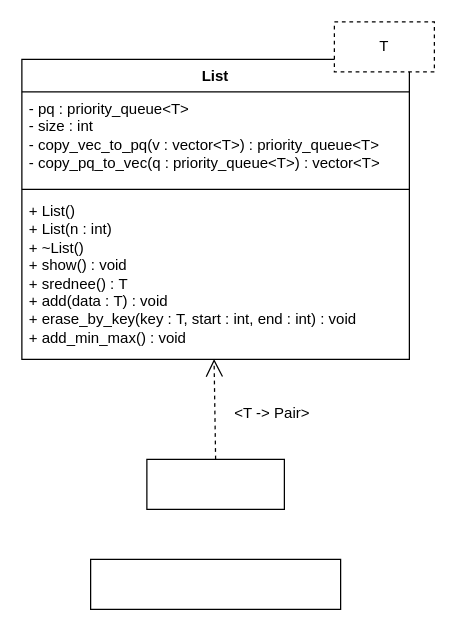
Image size: 456x631. Some labels were removed from this diagram. Each missing label, with the centre of its shape:
"lst" belongs at (215,483).
"lst : List <T -> Pair>" belongs at (215,583).
